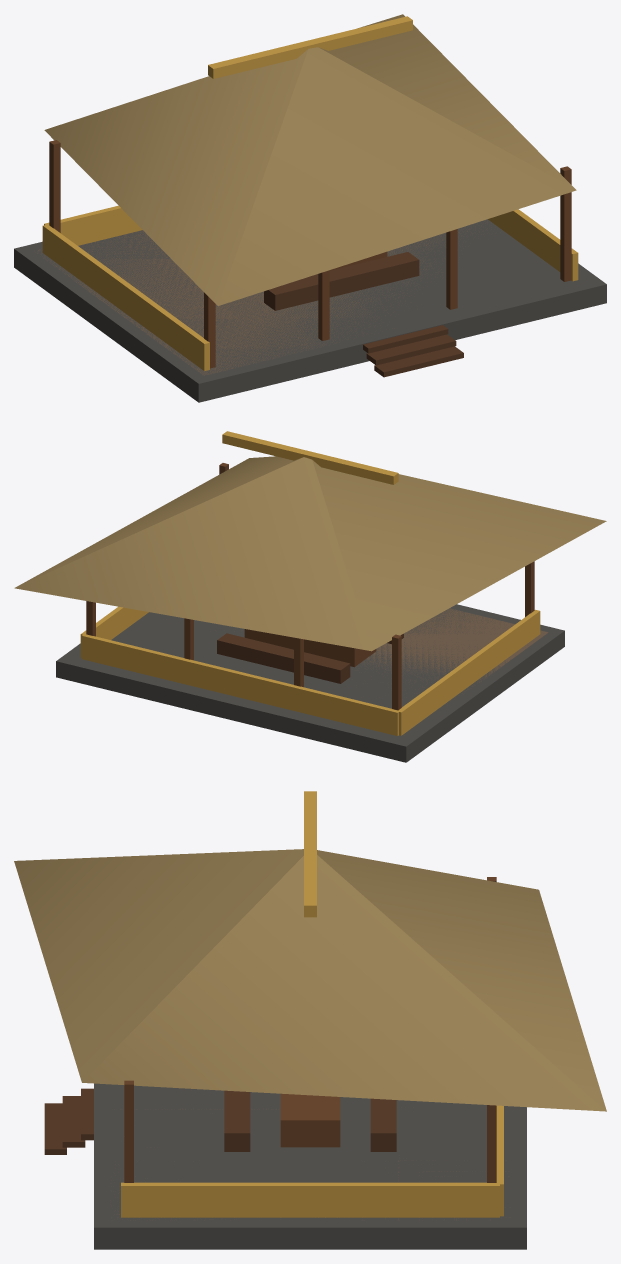
Rendered from bale-bali.glb.
The picture shows the model from 3 angles, top to bottom: view 1: azimuth 30°, elevation 25°; view 2: azimuth 150°, elevation 25°; view 3: azimuth 270°, elevation 25°; orthographic projection. The views are drawn at different scales.
Parts seen in each view (by area): view 1: ROOF_SYSTEM, FOUNDATION_SYSTEM, FLOOR_SYSTEM, WALL_SYSTEM, STRUCTURAL_COLUMNS, BENCH_DEDEGU_S, ENTRANCE_STAIRS; view 2: ROOF_SYSTEM, FOUNDATION_SYSTEM, WALL_SYSTEM, FLOOR_SYSTEM, BENCH_DEDEGU_N, STRUCTURAL_COLUMNS, COUNCIL_TABLE_TABA; view 3: ROOF_SYSTEM, FOUNDATION_SYSTEM, WALL_SYSTEM, COUNCIL_TABLE_TABA, ENTRANCE_STAIRS, STRUCTURAL_COLUMNS, BENCH_DEDEGU_S, BENCH_DEDEGU_N.
Part boxes in pixels (<box>): ROOF_SYSTEM: <box>44,14,576,305</box>; FOUNDATION_SYSTEM: <box>14,219,606,402</box>; FLOOR_SYSTEM: <box>37,220,487,375</box>; WALL_SYSTEM: <box>42,205,578,371</box>; STRUCTURAL_COLUMNS: <box>49,140,571,368</box>; BENCH_DEDEGU_S: <box>264,252,419,310</box>; ENTRANCE_STAIRS: <box>363,325,463,377</box>; ROOF_SYSTEM: <box>14,431,606,651</box>; FOUNDATION_SYSTEM: <box>56,604,564,762</box>; WALL_SYSTEM: <box>80,606,540,735</box>; FLOOR_SYSTEM: <box>234,608,548,693</box>; BENCH_DEDEGU_N: <box>217,633,350,683</box>; STRUCTURAL_COLUMNS: <box>86,463,534,710</box>; COUNCIL_TABLE_TABA: <box>244,629,376,667</box>; ROOF_SYSTEM: <box>14,791,606,1111</box>; FOUNDATION_SYSTEM: <box>94,1083,526,1249</box>; WALL_SYSTEM: <box>121,1105,503,1217</box>; COUNCIL_TABLE_TABA: <box>280,1093,340,1147</box>; ENTRANCE_STAIRS: <box>44,1088,93,1154</box>; STRUCTURAL_COLUMNS: <box>124,877,496,1182</box>; BENCH_DEDEGU_S: <box>224,1090,250,1151</box>; BENCH_DEDEGU_N: <box>370,1098,396,1151</box>.
Size of what is drawn, in the model's own units: 10.95 by 5.8 by 10.95.
